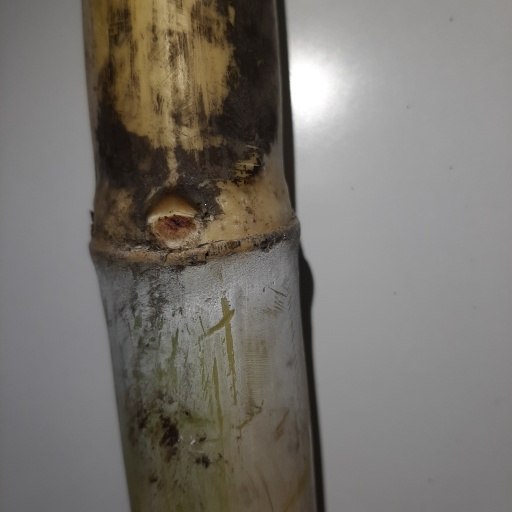Damage_Bud: (146, 193, 203, 248)
